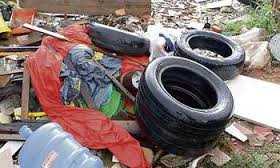tire: (140, 56, 233, 137), (174, 31, 244, 76)
